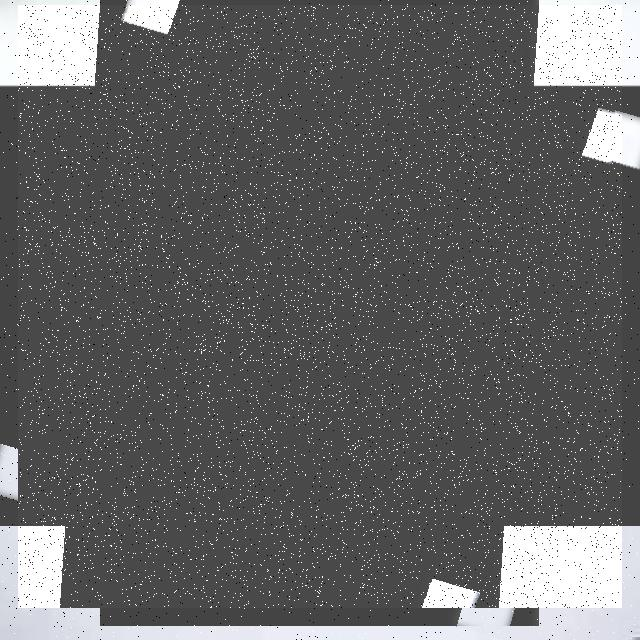dua puluh ribu rupiah: (18, 5, 622, 608)
